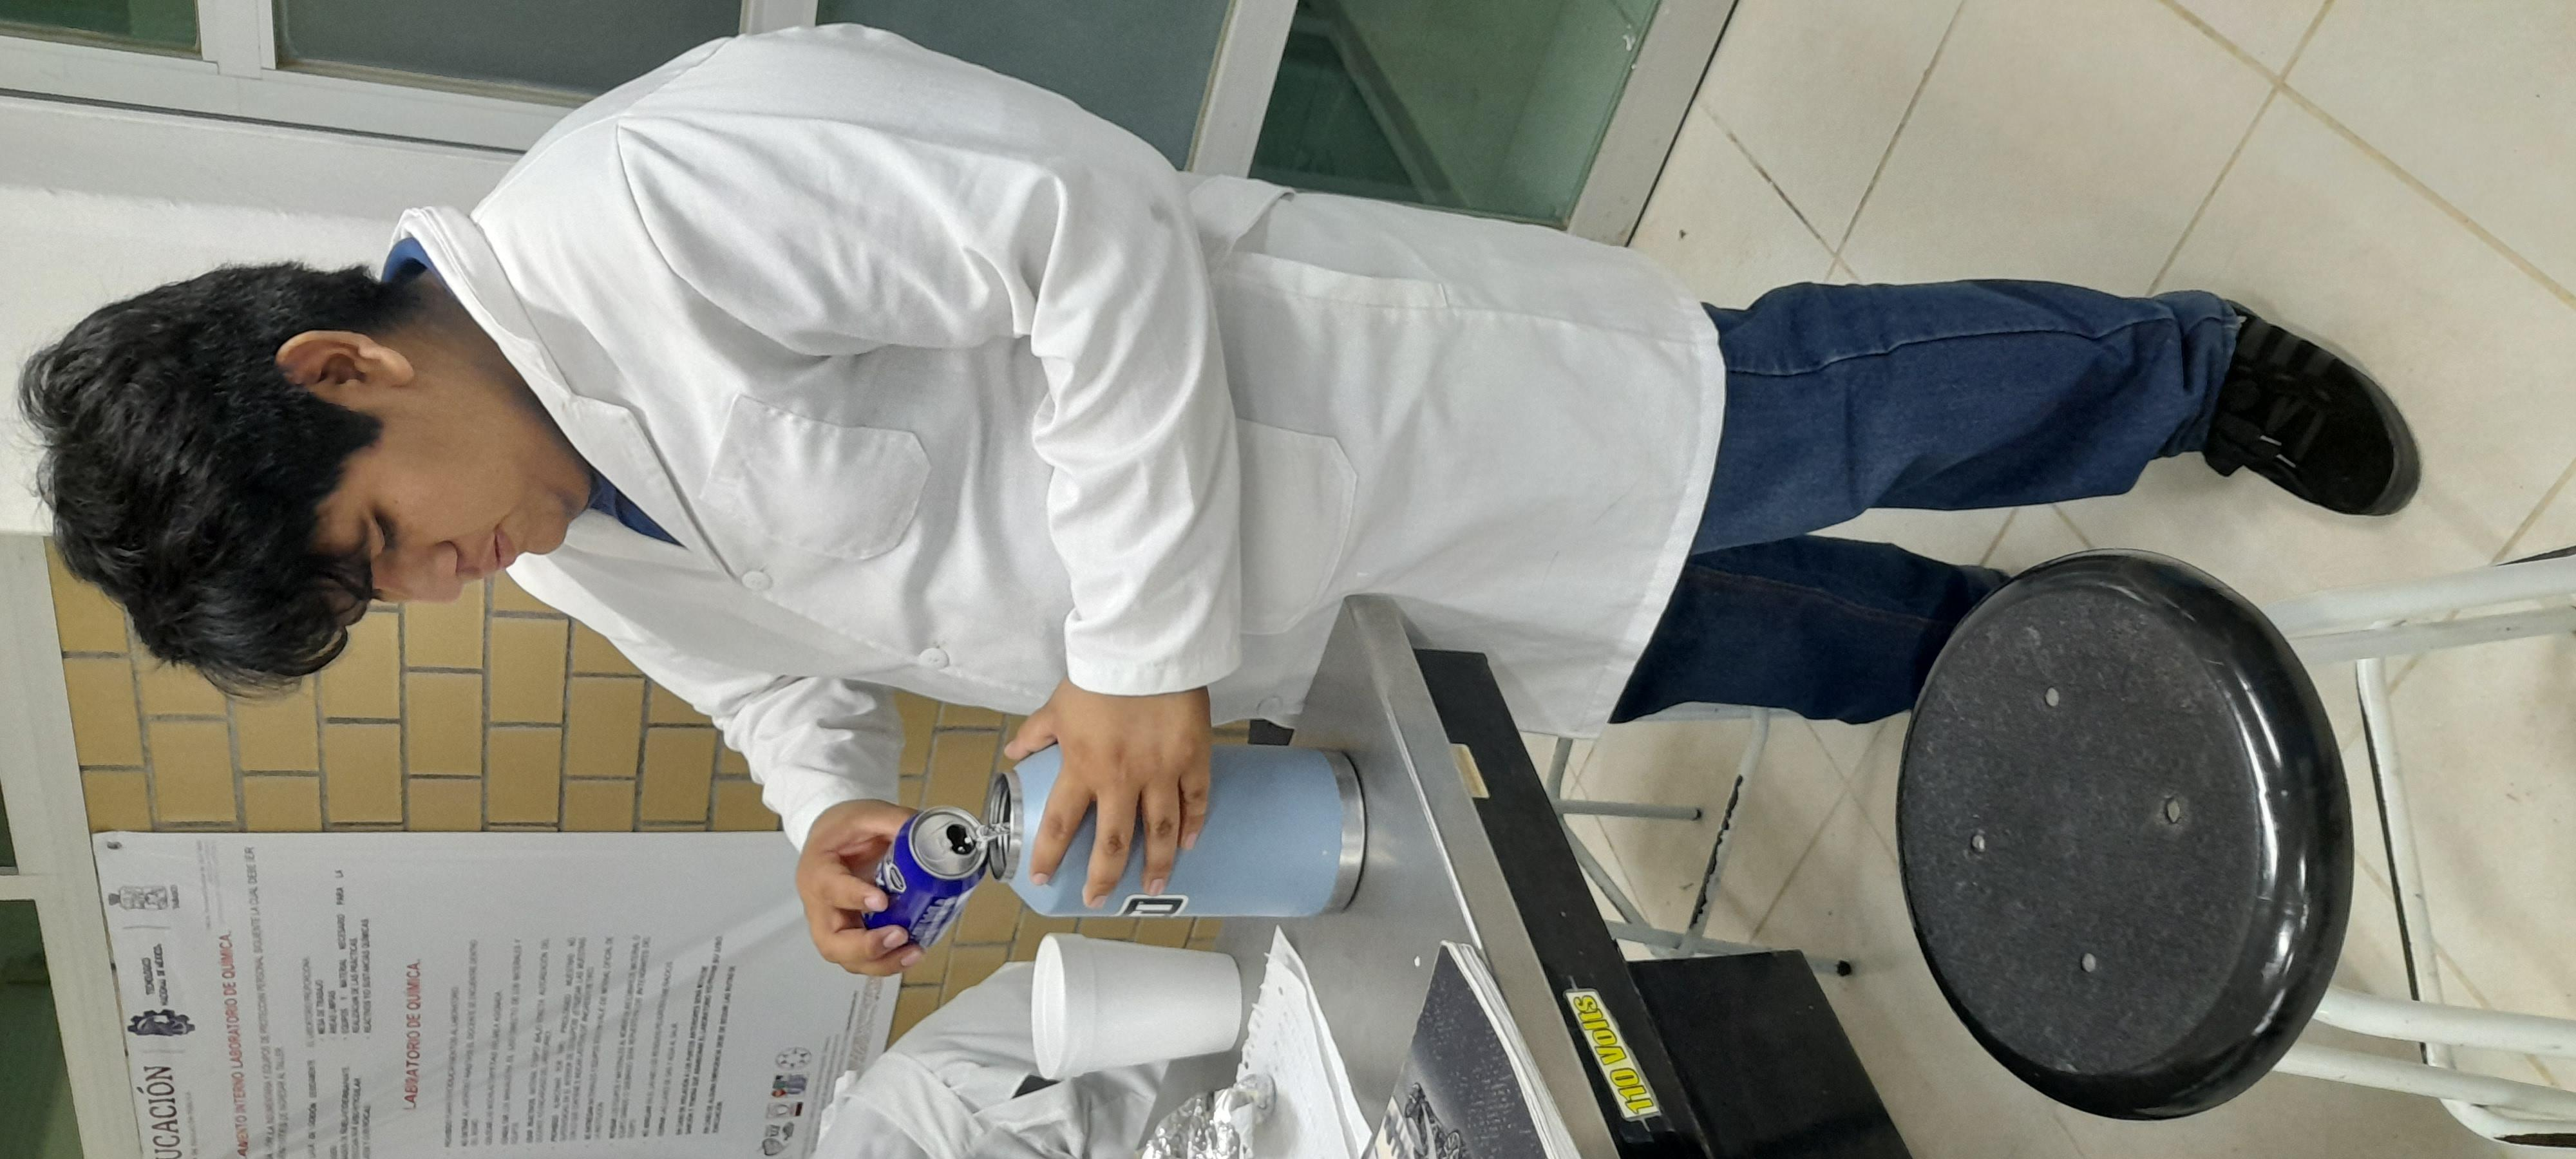Bata-Correcta: (409, 10, 2517, 1088)
